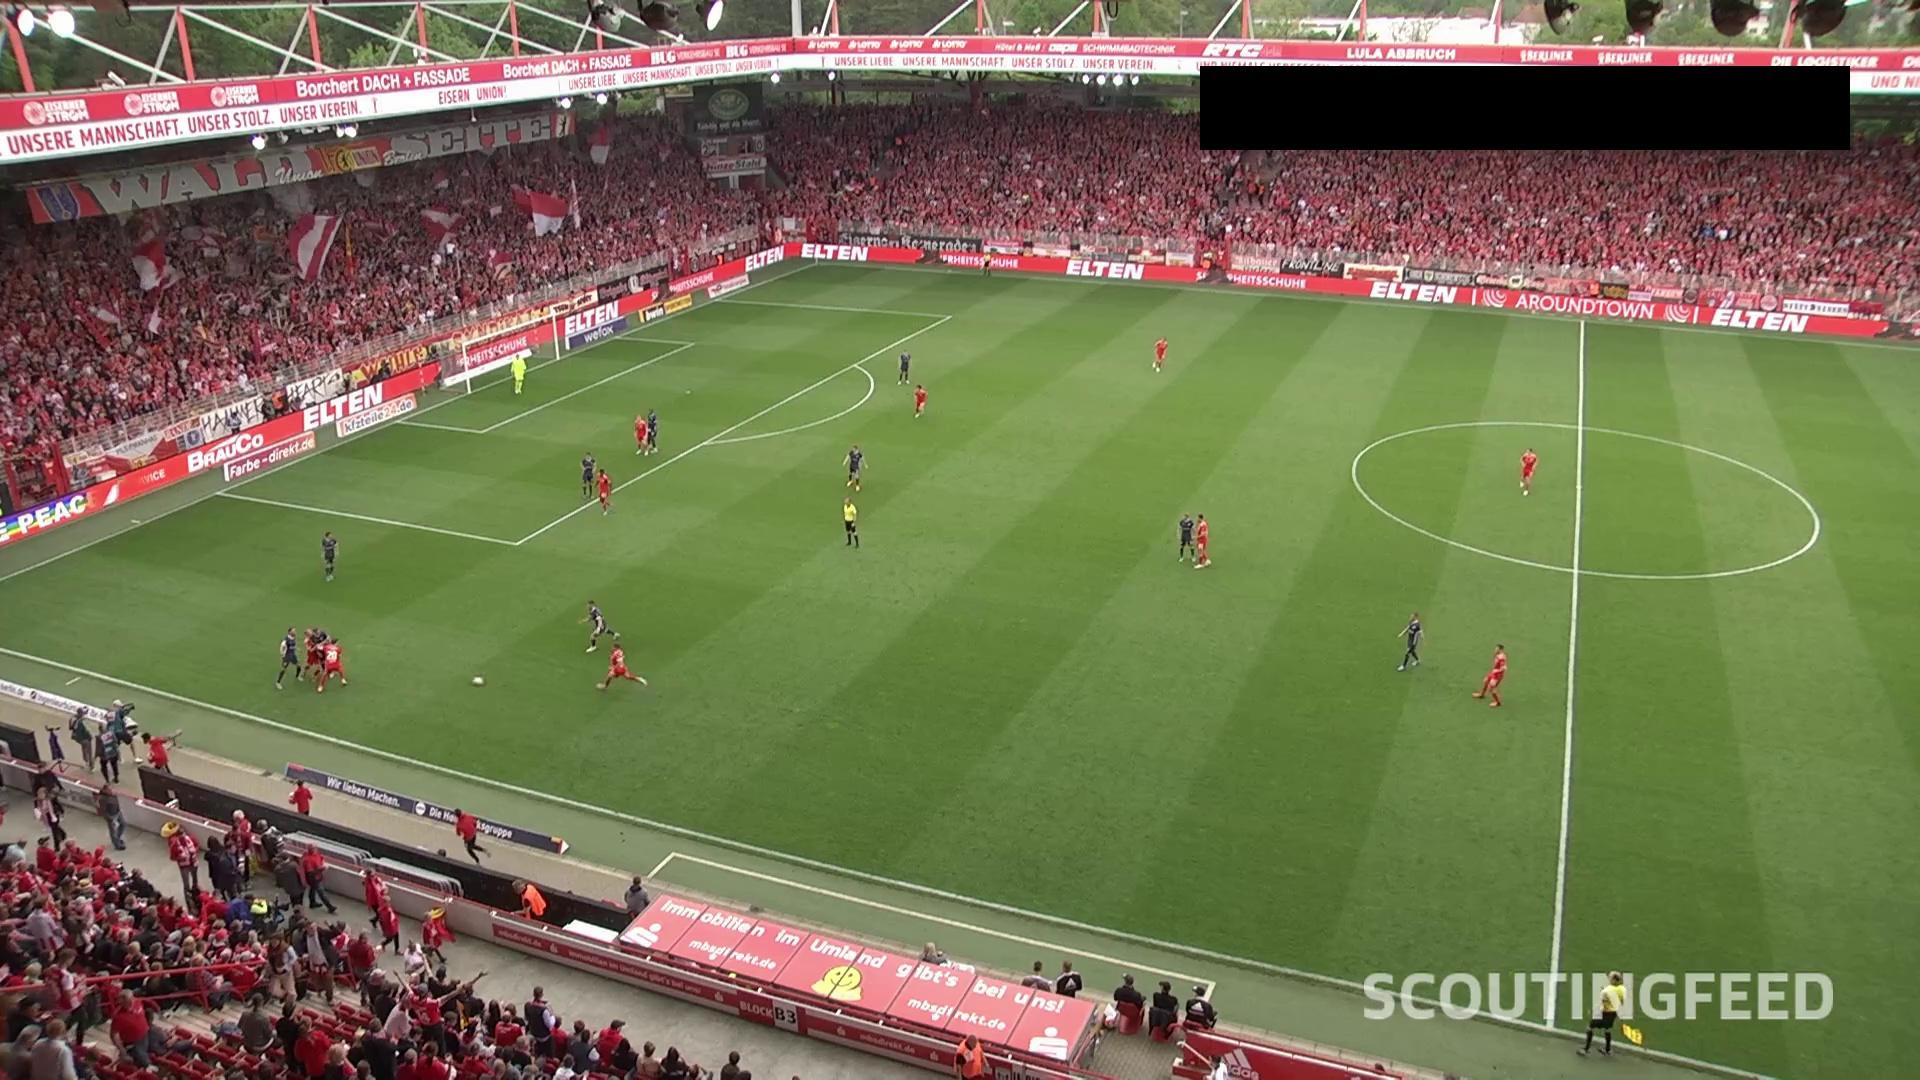Location-of-ball: (467, 665, 489, 692)
